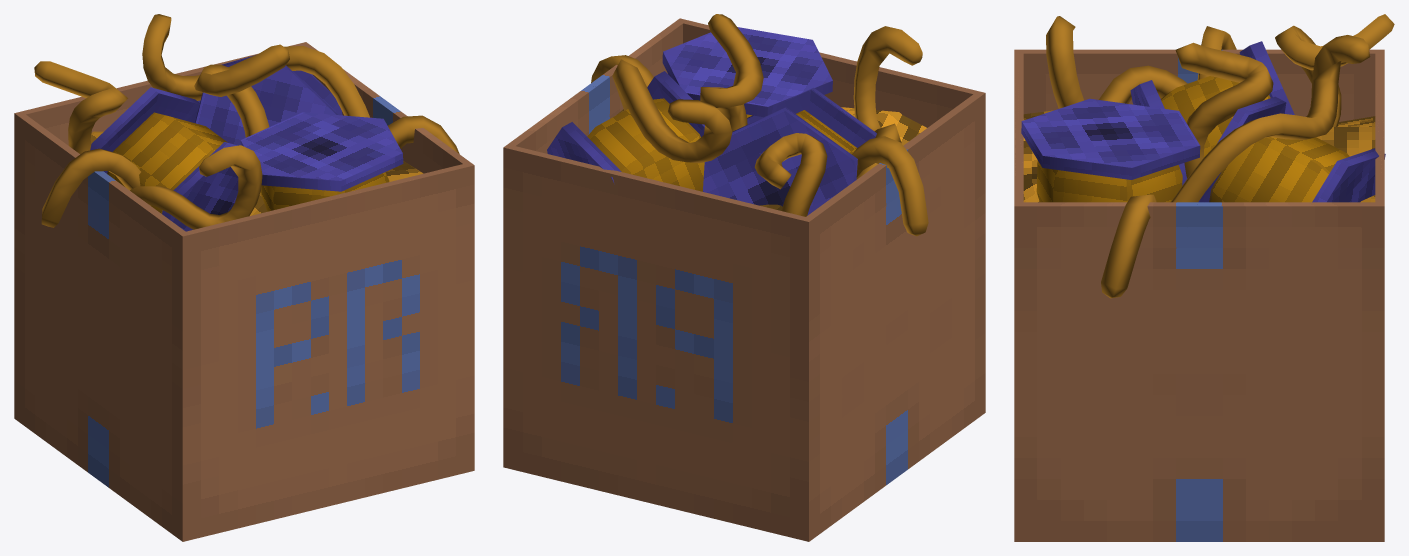
The model's file is BoxOfwires.glb.
3 views of the same model, side by side, from view 1: azimuth 30°, elevation 25°; view 2: azimuth 150°, elevation 25°; view 3: azimuth 270°, elevation 25° (orthographic). The views are drawn at different scales.
Visible parts, largest first — view 1: Cube.028; view 2: Cube.028; view 3: Cube.028.
Part boxes in pixels (bbox=[...]): Cube.028: bbox=[14, 14, 474, 541]; Cube.028: bbox=[503, 14, 985, 541]; Cube.028: bbox=[1014, 14, 1394, 541].
Size of the model in its own units: 5.16 by 5.18 by 4.11.
Materials: 4 (3 with a texture image).
